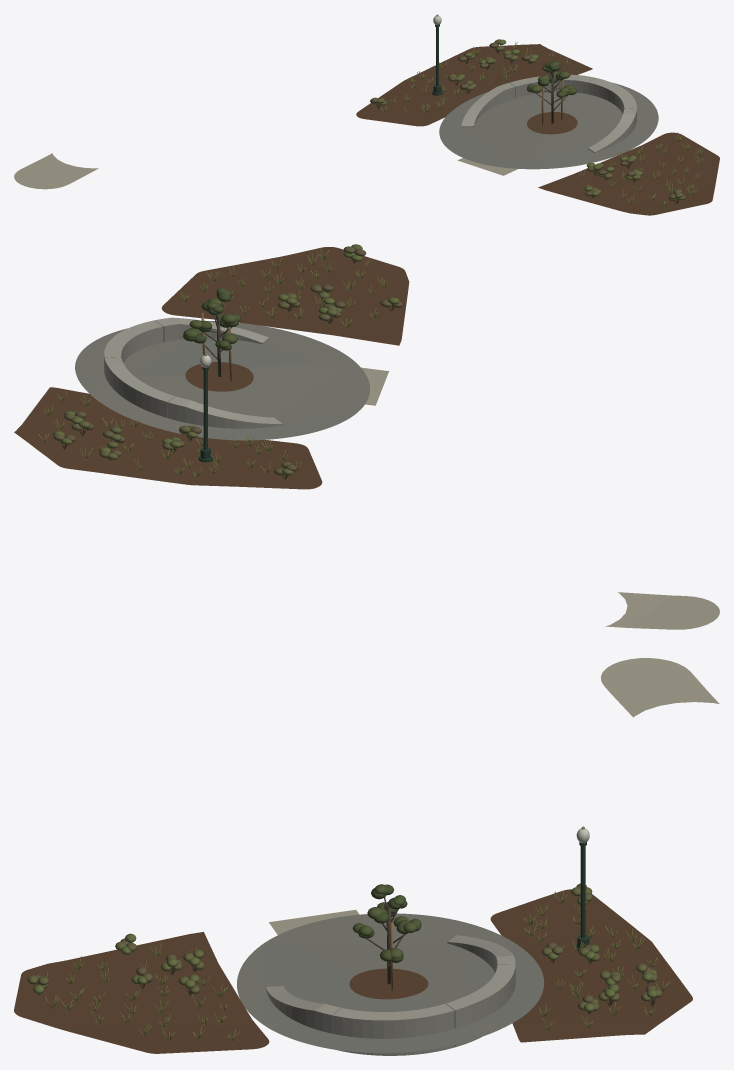
Rendered from site.glb.
3 views of the same model, one above another, from view 1: azimuth 30°, elevation 25°; view 2: azimuth 150°, elevation 25°; view 3: azimuth 270°, elevation 25° (orthographic). The views are drawn at different scales.
Visible parts, largest first — view 1: great-lawn-oak-court, great-lawn-oak-planting, great-lawn-oak-furnishings; view 2: great-lawn-oak-court, great-lawn-oak-planting, great-lawn-oak-furnishings; view 3: great-lawn-oak-court, great-lawn-oak-planting, great-lawn-oak-furnishings.
Boxes of the visible parts, x1,y1,x2,y2 form: great-lawn-oak-court: (14,44,719,215); great-lawn-oak-planting: (370,39,703,205); great-lawn-oak-furnishings: (432,14,636,152); great-lawn-oak-court: (14,247,719,629); great-lawn-oak-planting: (38,244,403,480); great-lawn-oak-furnishings: (104,317,282,462); great-lawn-oak-court: (14,658,719,1053); great-lawn-oak-planting: (27,883,670,1042); great-lawn-oak-furnishings: (265,826,589,1055).
Bounding box in the file's own units: 23.6 × 3.62 × 17.
